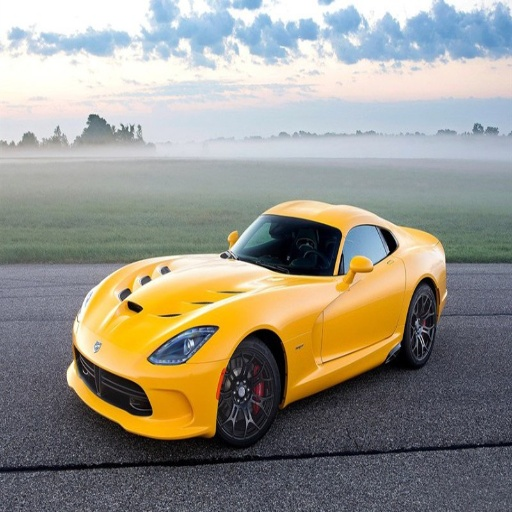front_bumper: (125, 414, 207, 437)
front_glass: (223, 214, 339, 274)
front_left_door: (301, 223, 384, 376)
trunk: (77, 274, 170, 372)
